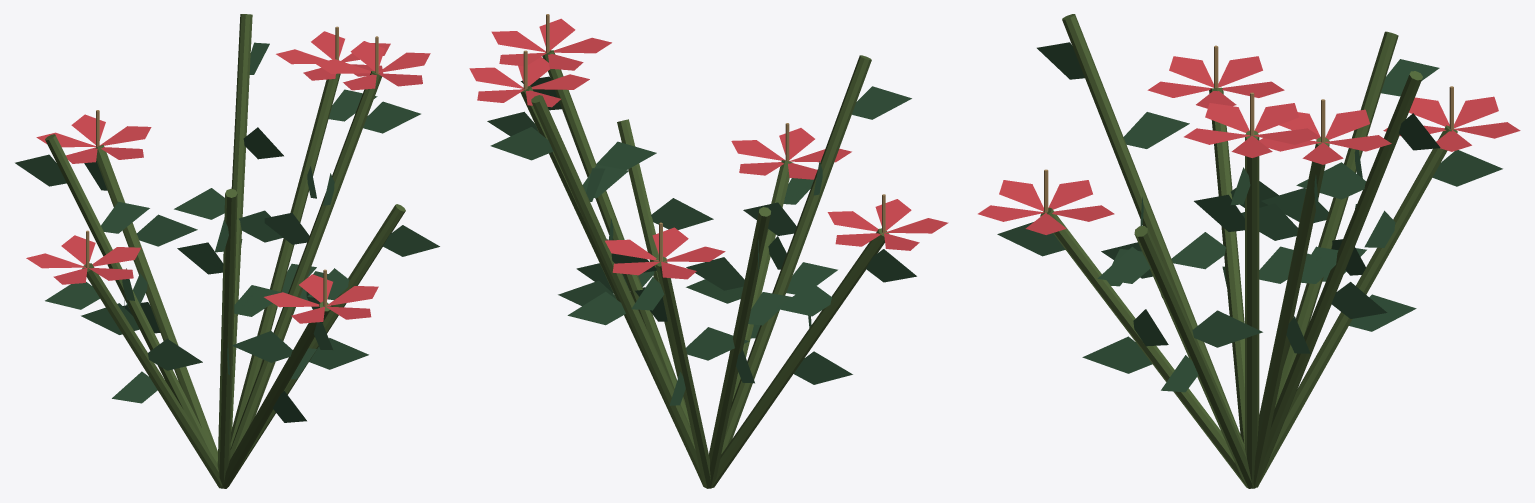
File: hibiscus.glb
3 renders of one model, left to right at view 1: azimuth 30°, elevation 25°; view 2: azimuth 150°, elevation 25°; view 3: azimuth 270°, elevation 25°, orthographic. The views are drawn at different scales.
Parts seen in each view (by area): view 1: hibiscus; view 2: hibiscus; view 3: hibiscus.
Part boxes in pixels (x1,y1,x2,y2): hibiscus: (15,14,439,488); hibiscus: (469,14,948,488); hibiscus: (978,14,1520,488).
Bounding box in the file's own units: 1.05 × 1.03 × 1.05.
